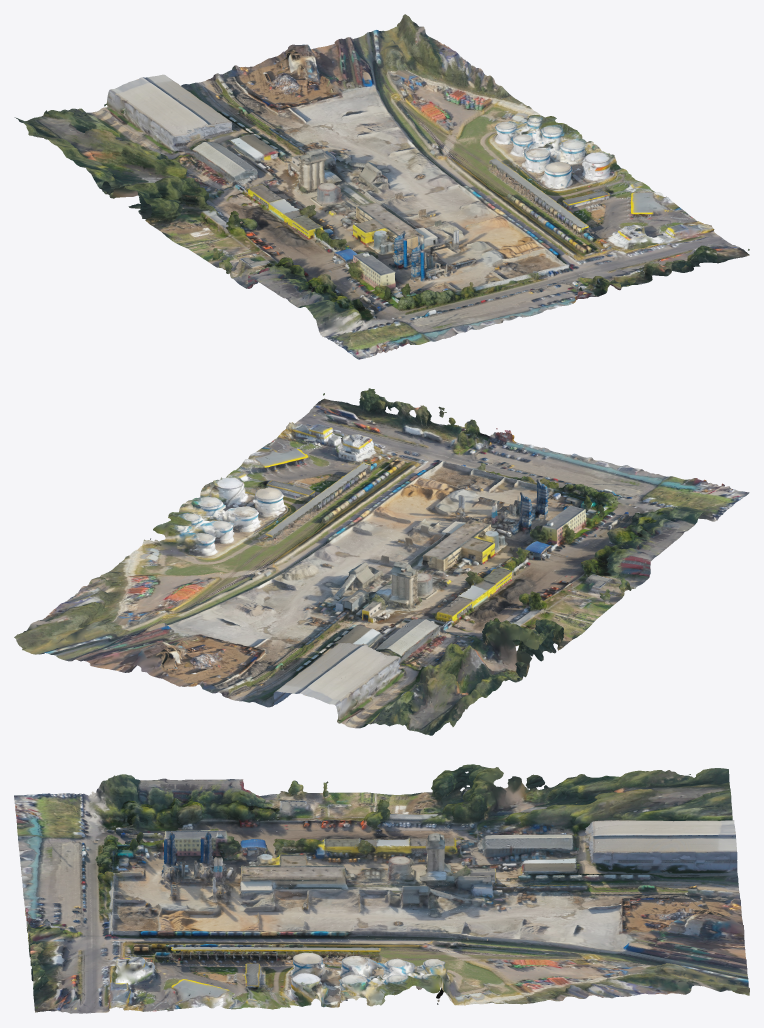
Rendered from asphalt-plant.glb.
3 views of the same model, one above another, from view 1: azimuth 30°, elevation 25°; view 2: azimuth 150°, elevation 25°; view 3: azimuth 270°, elevation 25° (orthographic). The views are drawn at different scales.
Visible parts, largest first — view 1: Object_2, Object_3; view 2: Object_2, Object_3; view 3: Object_2, Object_3.
Boxes of the visible parts, x1,y1,x2,y2 form: Object_2: (14, 14, 749, 359); Object_3: (151, 115, 628, 280); Object_2: (14, 388, 749, 735); Object_3: (140, 477, 638, 645); Object_2: (14, 764, 749, 1013); Object_3: (257, 771, 467, 1007).
Size of the model in its own units: 380 by 34.69 by 515.
1 material, 1 textured.
